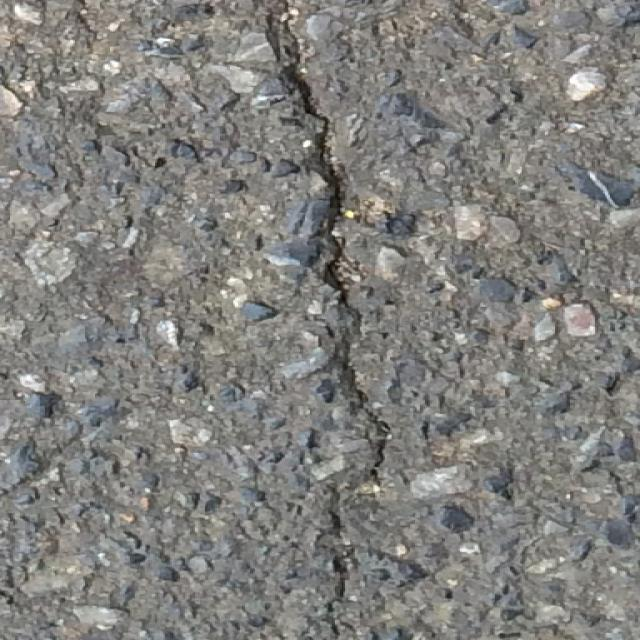Longitudinal: (265, 0, 388, 640)
